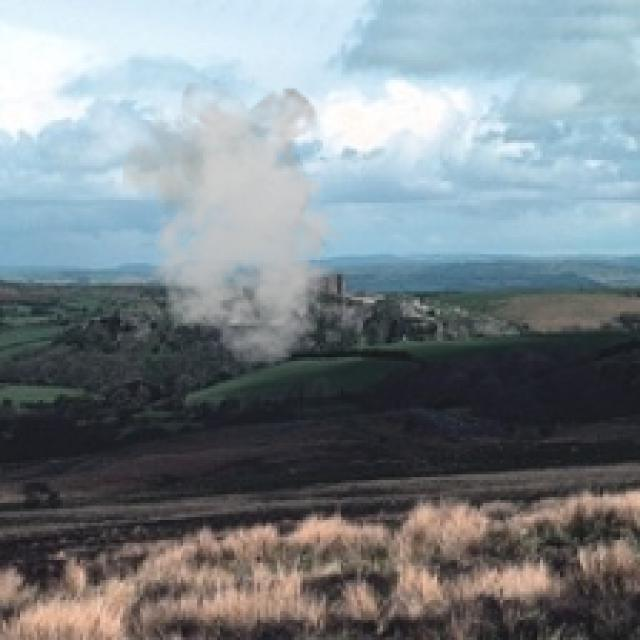Smoke: (122, 83, 358, 366)
